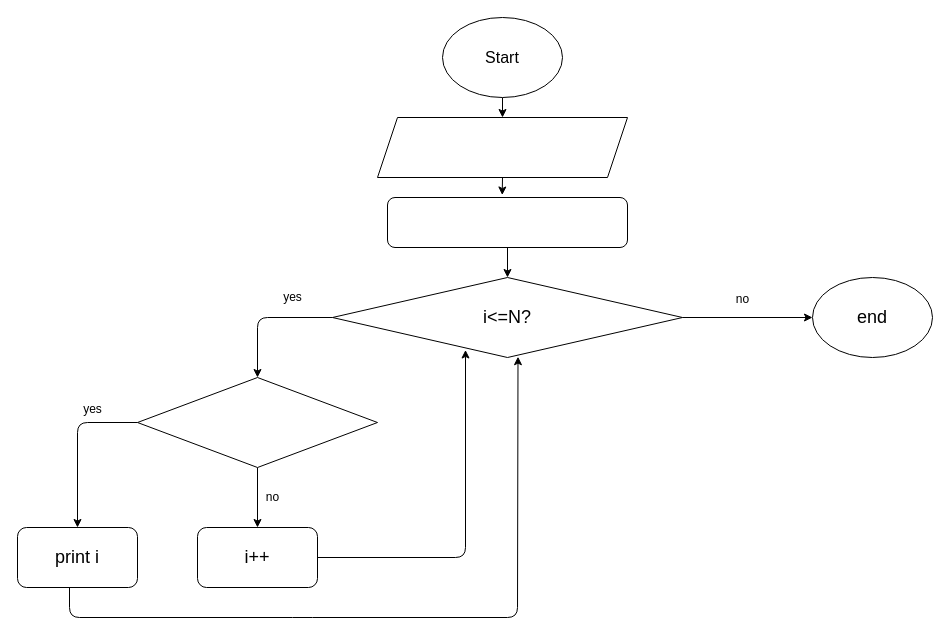
Some shapes in this 950 by 643 pixel diagram are drawn without their labels. Each missing label, with the centre of its shape:
i%2==0?: (x=257, y=422)
int N; int i = 1;: (x=507, y=222)
Введите положительное число больше нуля: (x=502, y=147)
